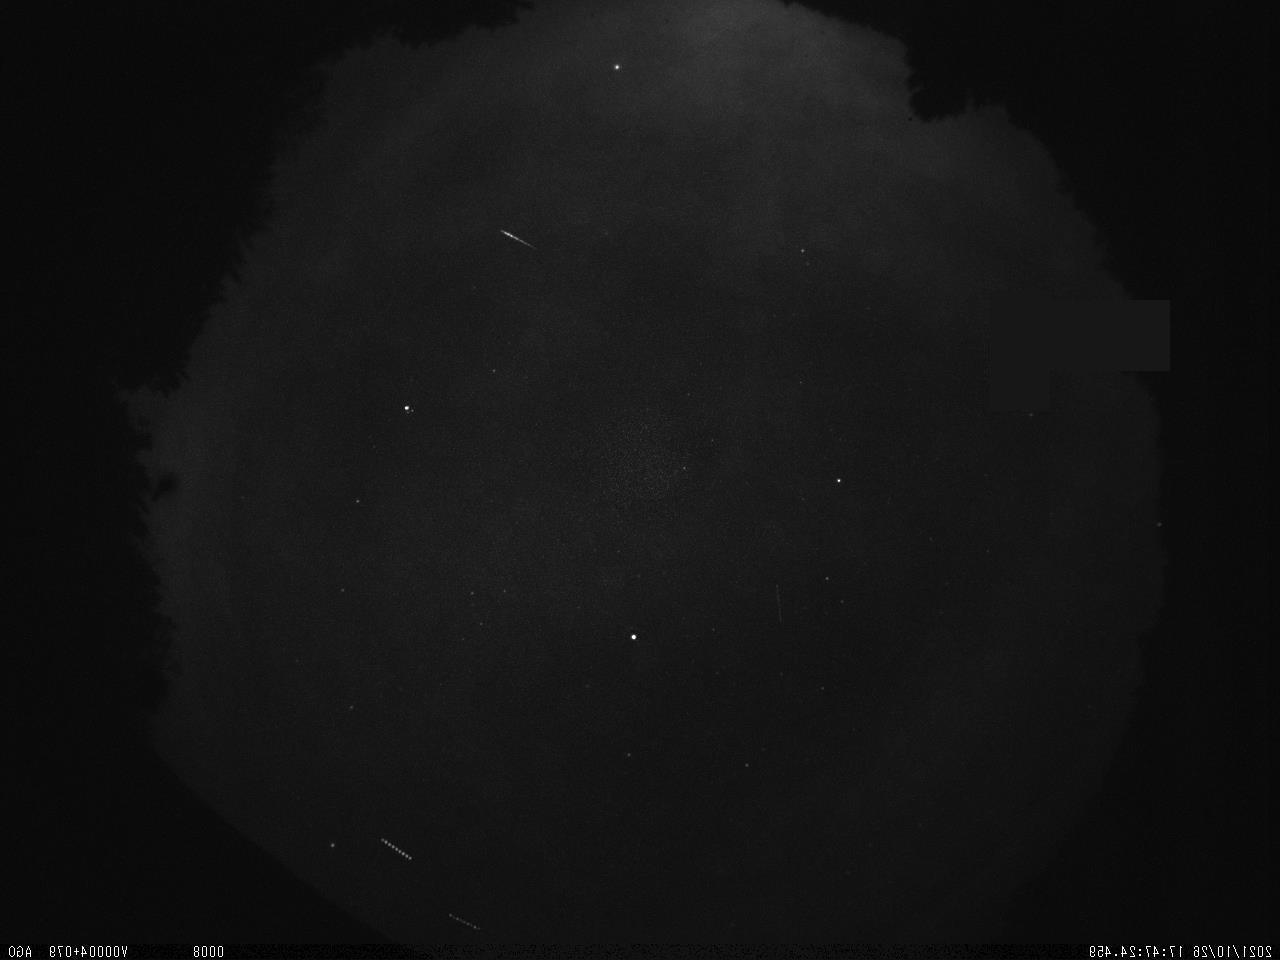meteor: (483, 222, 555, 257)
satelite: (376, 836, 421, 869), (435, 910, 488, 938)
